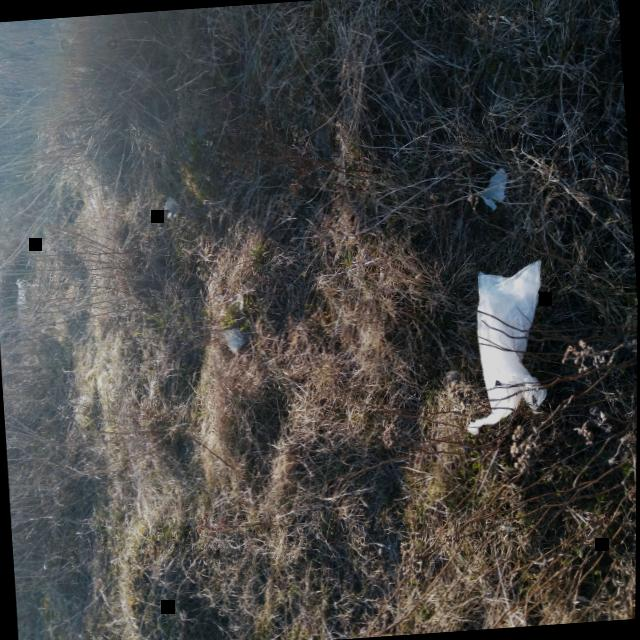Plastic film: (476, 167, 506, 209), (213, 327, 245, 353), (163, 195, 178, 222)
Single-use carrier bag: (465, 260, 546, 434)
Unlabeled litter: (15, 281, 25, 313)
